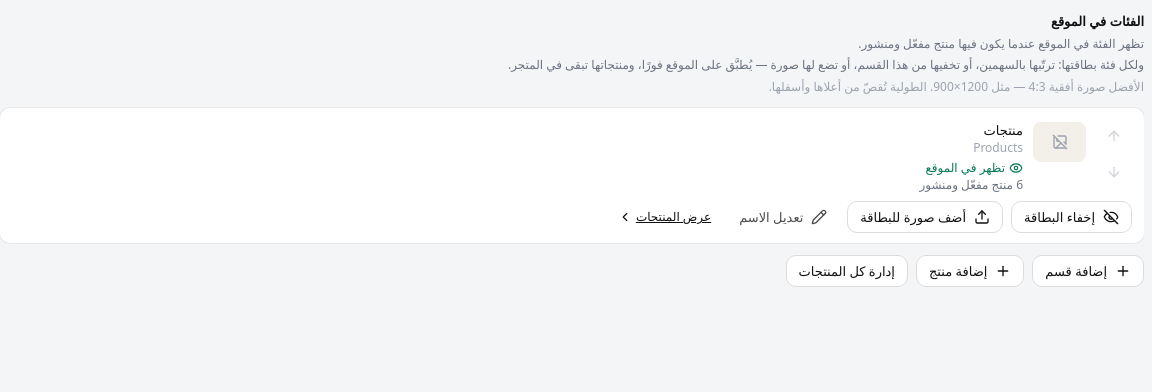
it: اسمُ الفئة وحذفُها من المحرّر › يُعدَّل الاسمُ بالعربيّة والإنجليزيّة من صفّه — بالباب القائم، وتُعاد المعاينة
Click the button with aria-label "تعديل الاسم — منتجات" at (783, 217), box [727,201,839,233]
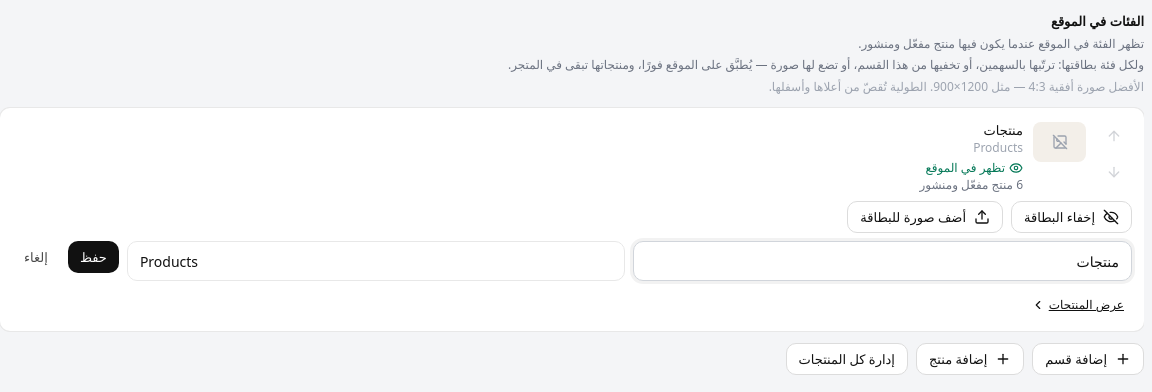
Check: the field named "اسم القسم — منتجات" holds "منتجات"
Check: the field named "الاسم بالإنجليزية (اختياري) — منتجات" holds "Products", box [127,241,626,281]
Replace the text in the field named "اسم القسم — منتجات" with "منتجاتنا" at (883, 261), box [633,241,1132,281]
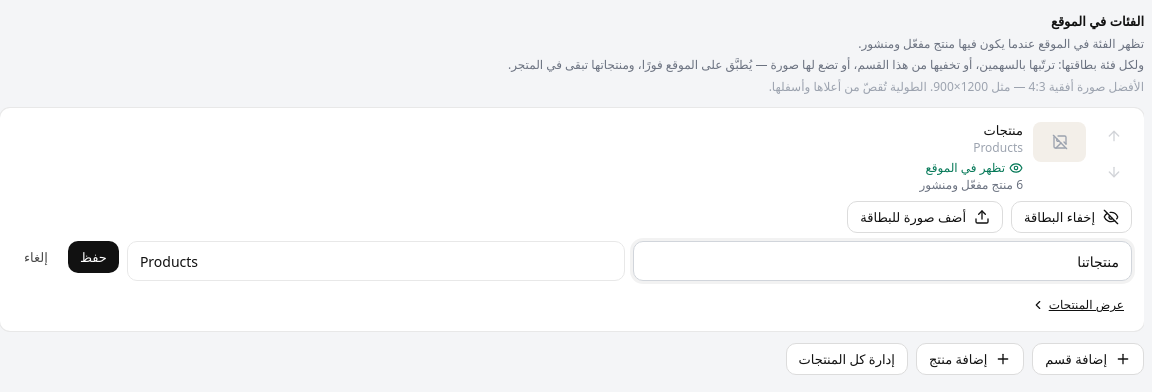
Replace the text in the field named "الاسم بالإنجليزية (اختياري) — منتجات" with "Our products" at (376, 261), box [127,241,626,281]
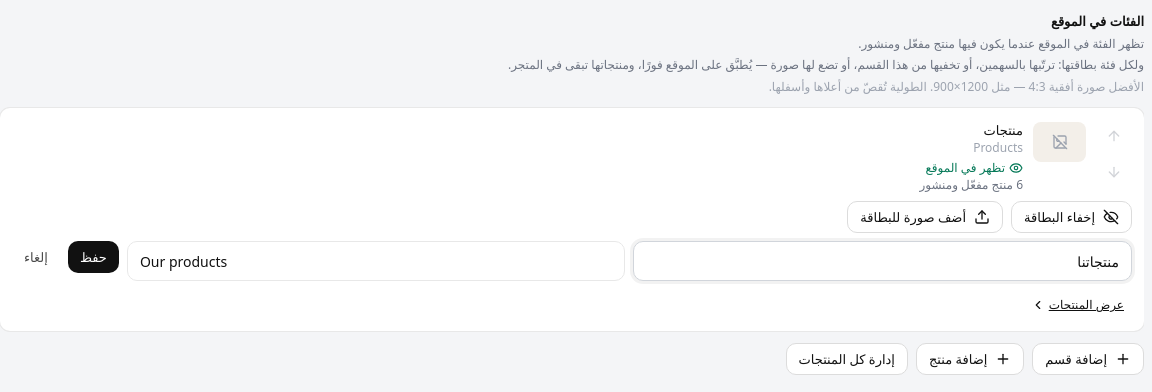
Click the button "حفظ" at (93, 257), box [68,241,119,273]
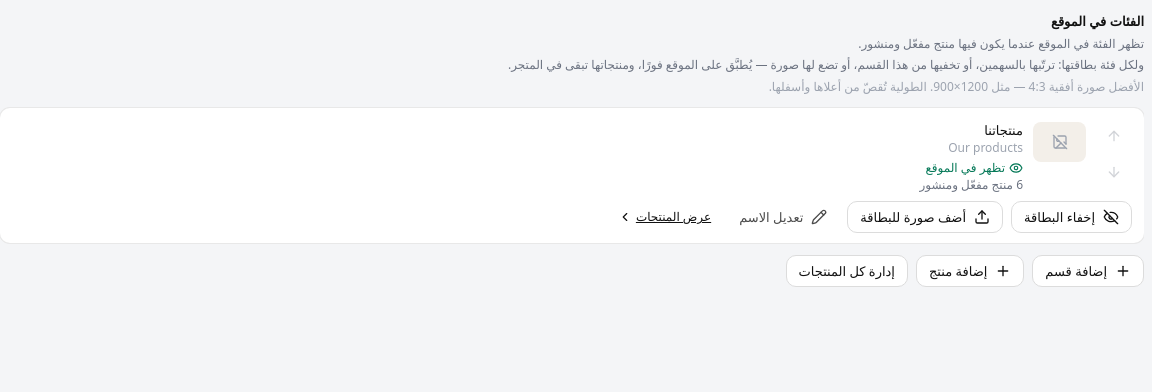
Check: the text "منتجاتنا" is shown, box [984,121,1023,139]
Check: the text "Our products" is shown, box [948,139,1023,156]
Check: the element with test id "catalog-rename-form-1" is gone
